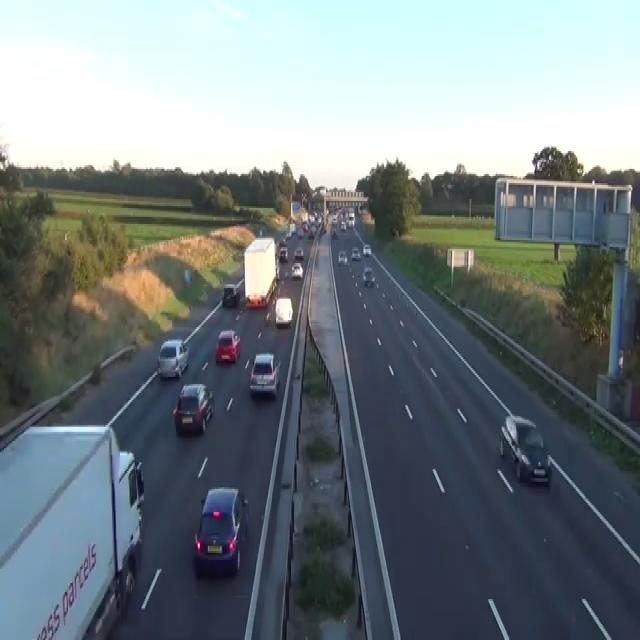Car: (193, 486, 249, 574), (499, 414, 550, 486), (172, 382, 213, 436), (249, 352, 281, 396), (156, 338, 188, 378), (215, 329, 240, 363), (275, 297, 293, 327), (222, 282, 240, 308), (245, 292, 267, 308), (362, 265, 375, 286), (291, 261, 303, 279), (337, 249, 347, 265), (279, 246, 288, 262), (350, 246, 360, 260), (257, 224, 267, 236), (294, 247, 304, 258), (362, 244, 371, 256), (275, 258, 280, 279), (184, 268, 190, 282), (307, 229, 314, 240), (278, 238, 286, 247), (302, 221, 309, 231), (331, 213, 337, 224), (340, 221, 346, 231), (331, 230, 338, 238), (285, 230, 292, 238), (321, 224, 327, 233), (348, 212, 354, 220), (297, 228, 303, 236)
Truck: (0, 423, 144, 638), (243, 235, 277, 308)
